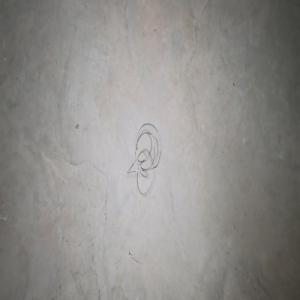Wire: (126, 123, 160, 194)
